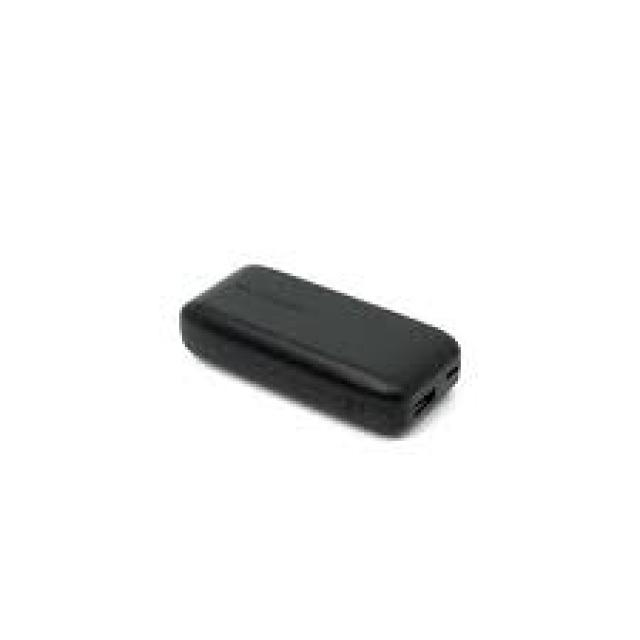non-organic waste: (164, 256, 466, 440)
